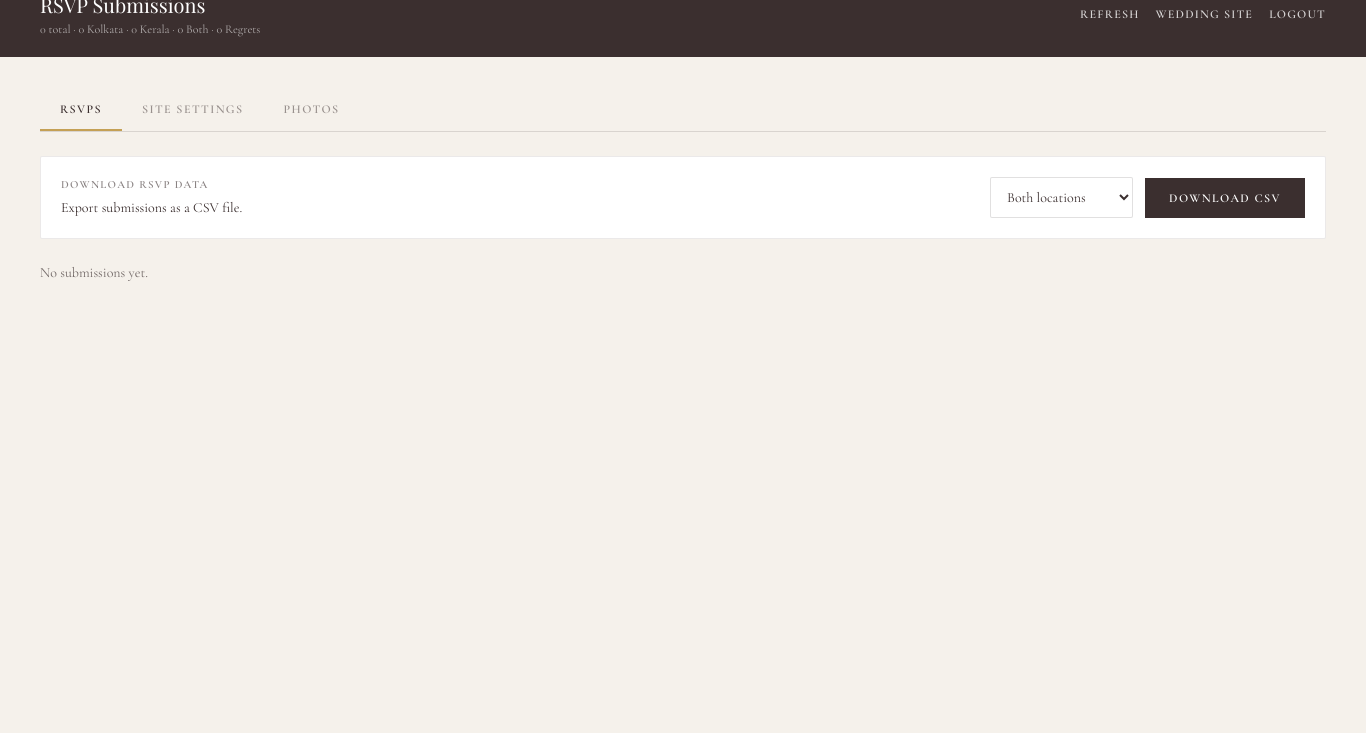
AdminPage › renders event visibility card with correct checkboxes
Step 1. Click the button "Site Settings" → (193, 110), box top-left (122, 89), bottom-right (264, 131)
(page scrolled)
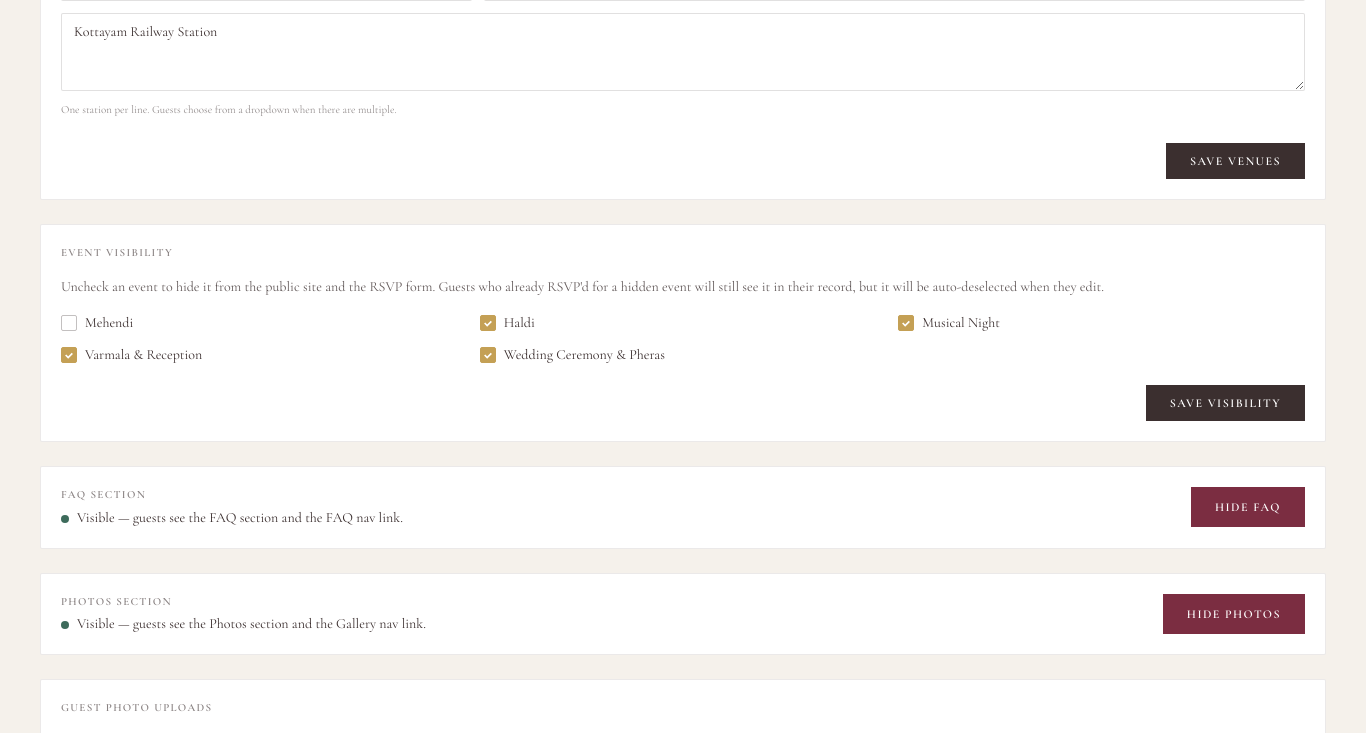
Check: the text "Event Visibility" is shown, box top-left (61, 246), bottom-right (173, 258)
Check: the checkbox labelled "Mehendi" is shown, box top-left (61, 314), bottom-right (133, 331)
Check: the checkbox labelled "Haldi" is shown, box top-left (480, 314), bottom-right (535, 331)
